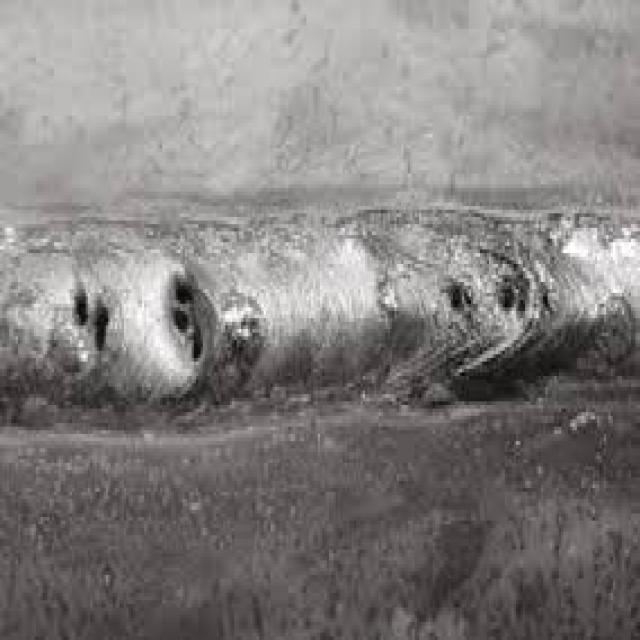Defect: (442, 268, 548, 322), (63, 268, 117, 358), (160, 264, 205, 365)
